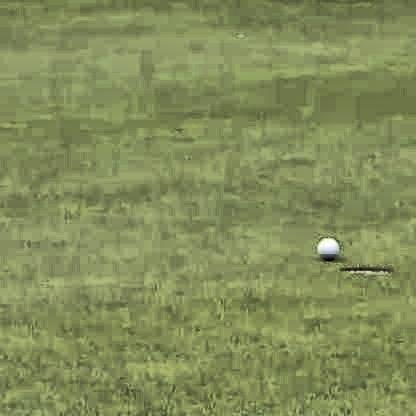golfball: (314, 234, 337, 259)
